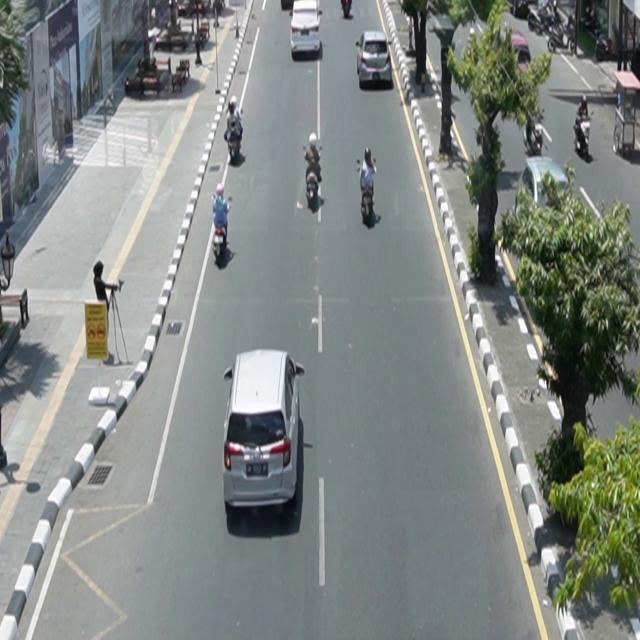car: (223, 349, 306, 513), (356, 31, 394, 89)
